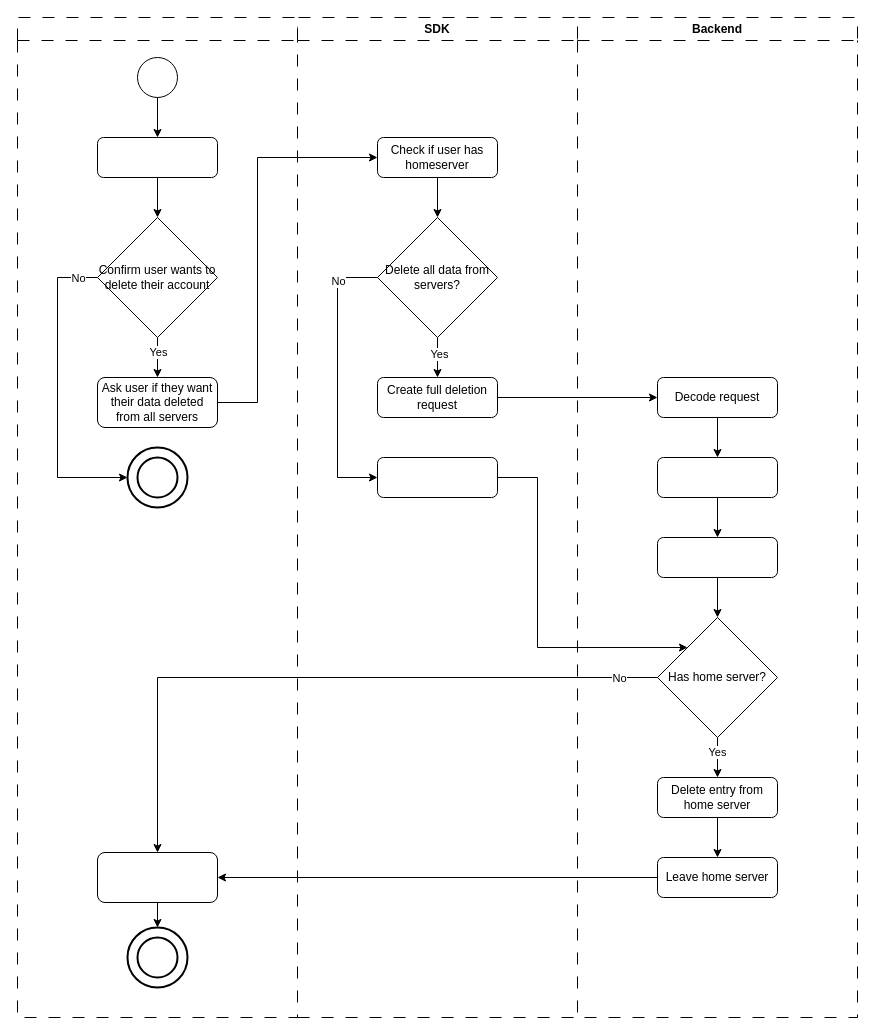
Image size: 875x1036. Some labels were removed from this diagram. Each missing label, with the box of its shape:
Create partial deletion request: (376, 456, 498, 498)
Delete user data: (656, 456, 778, 498)
Press Delete Account button: (96, 136, 218, 178)
Remove user from servers: (656, 536, 778, 578)
Show successful account deletion dialog: (96, 852, 218, 902)
UI: (16, 16, 298, 1018)
